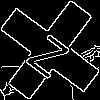Z: (25, 25, 77, 80)
